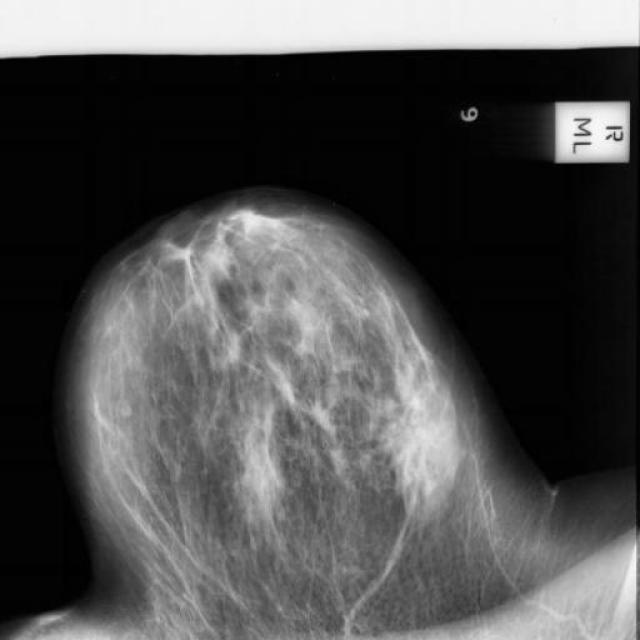cancer: (288, 382, 348, 452)
